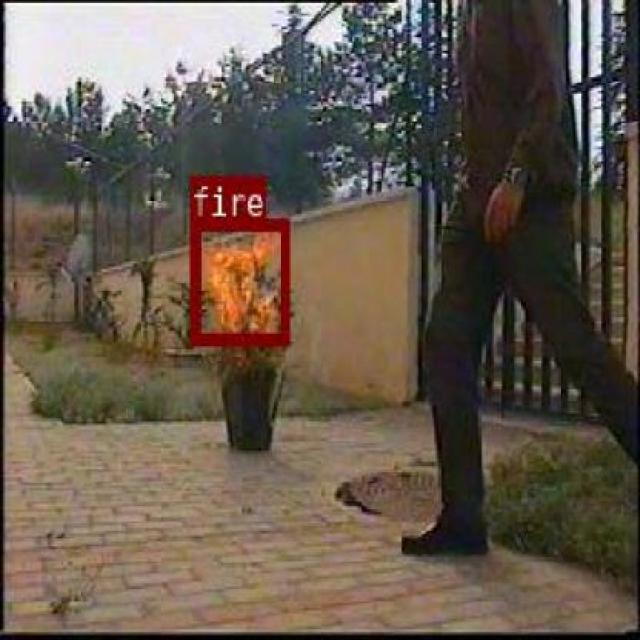Fire: (189, 216, 288, 342)
